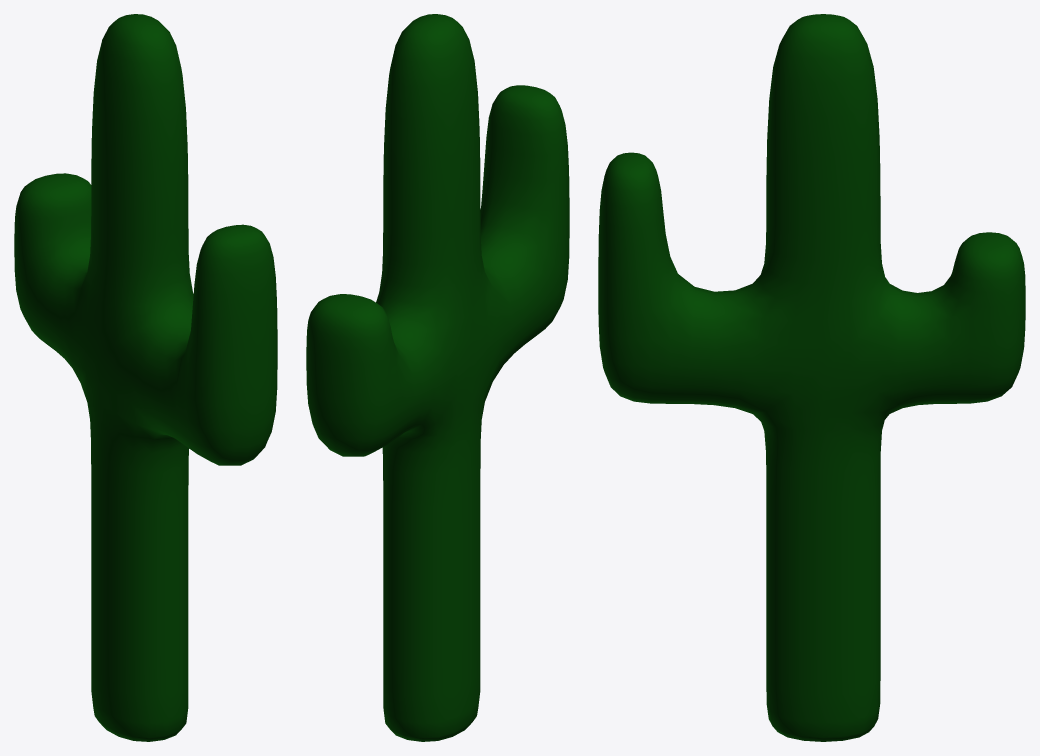
Rendered from Smacktus.fbx.
The picture shows the model from 3 angles, left to right: view 1: azimuth 30°, elevation 25°; view 2: azimuth 150°, elevation 25°; view 3: azimuth 270°, elevation 25°; orthographic projection.
Parts seen in each view (by area): view 1: Cube; view 2: Cube; view 3: Cube.
Boxes of the visible parts, bbox=[...] form: Cube: bbox=[14, 14, 277, 741]; Cube: bbox=[306, 14, 569, 741]; Cube: bbox=[598, 14, 1025, 741].
Size of the model in its own units: 130 by 1063 by 579.
